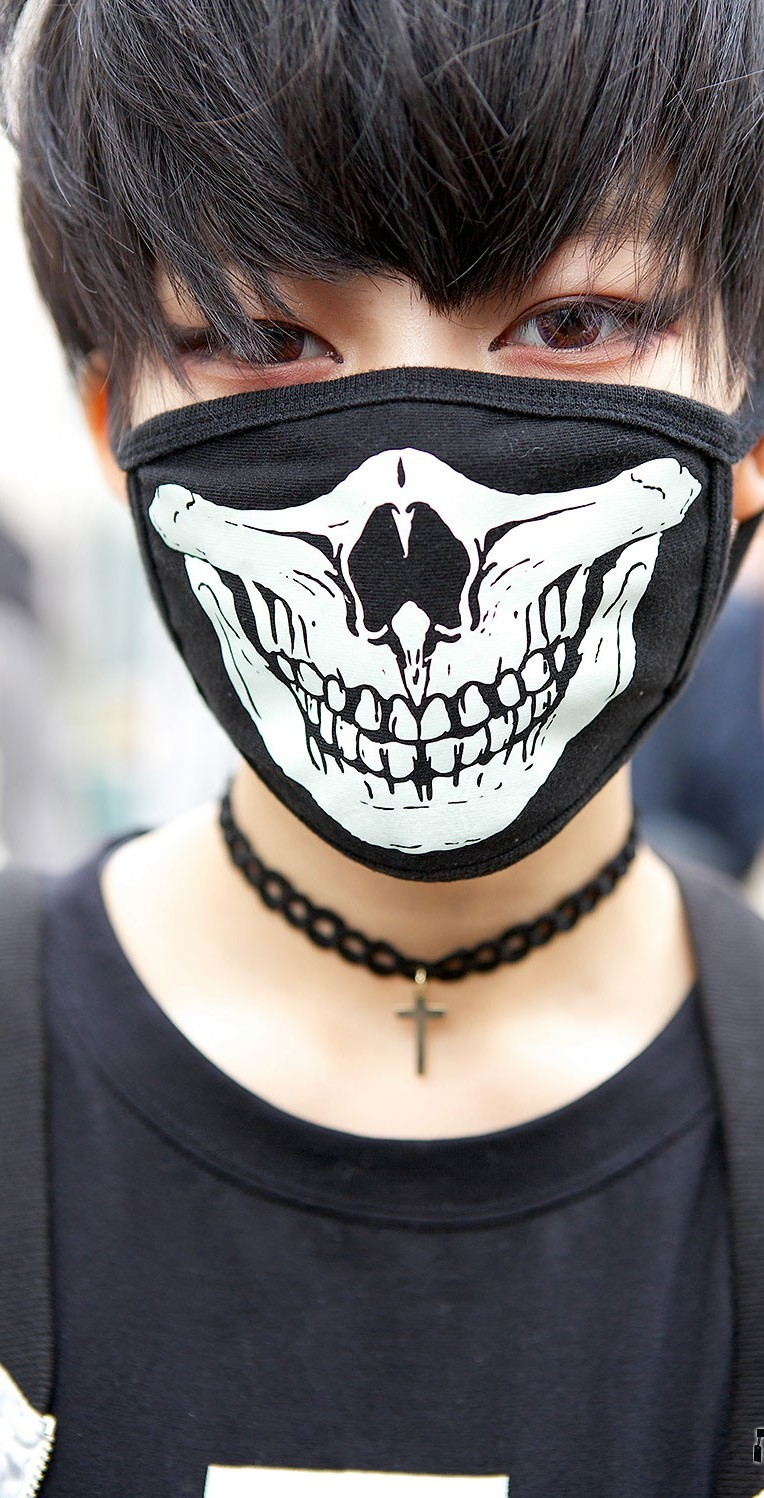with_mask: (70, 138, 764, 884)
